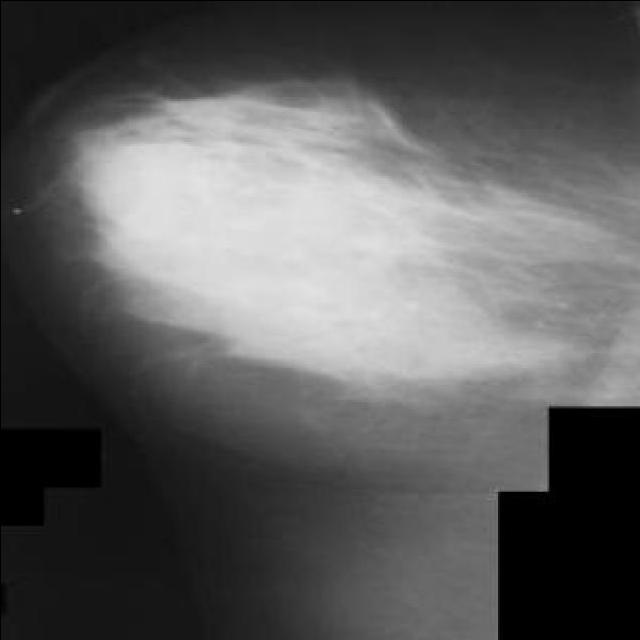tumor: (272, 152, 468, 402), (61, 79, 204, 346)
